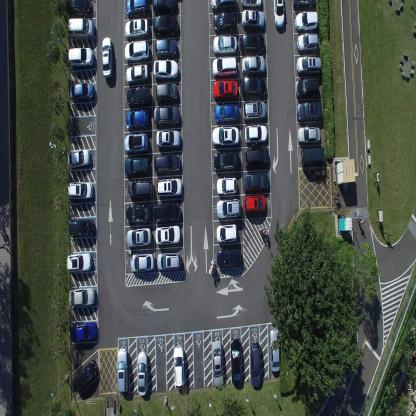car: (72, 358, 100, 394), (67, 44, 94, 70), (67, 16, 95, 41), (70, 320, 99, 344), (152, 58, 179, 83), (67, 216, 96, 239), (116, 347, 130, 393), (68, 285, 96, 308), (249, 340, 262, 388), (136, 349, 149, 397), (214, 150, 240, 174), (124, 39, 150, 63), (154, 153, 181, 176), (211, 126, 239, 148), (151, 14, 179, 36), (100, 35, 114, 78), (300, 145, 325, 169), (240, 78, 266, 101), (244, 146, 270, 169), (67, 252, 94, 274), (156, 178, 183, 200), (154, 201, 181, 223), (126, 226, 153, 248), (212, 339, 224, 388), (230, 336, 242, 385), (154, 82, 179, 105), (296, 54, 321, 77), (296, 102, 322, 124), (212, 81, 238, 103), (126, 202, 152, 224), (69, 81, 95, 103), (212, 56, 238, 78), (239, 32, 265, 54), (213, 9, 235, 35), (153, 105, 180, 126), (130, 250, 154, 273), (242, 193, 266, 216), (67, 146, 91, 169), (242, 7, 265, 31), (156, 130, 181, 152), (125, 156, 150, 178), (68, 180, 93, 202), (126, 86, 151, 108), (241, 54, 266, 76), (156, 250, 182, 271), (215, 198, 241, 219), (243, 171, 269, 192), (155, 224, 181, 245), (124, 133, 150, 154), (173, 345, 185, 390), (270, 326, 281, 374), (217, 246, 241, 268), (294, 78, 318, 100), (215, 104, 239, 126), (125, 63, 149, 85), (124, 16, 148, 38), (213, 34, 237, 56), (244, 124, 267, 146), (242, 102, 266, 123), (294, 11, 318, 32), (128, 180, 153, 200), (215, 222, 237, 243), (126, 108, 148, 129), (155, 38, 178, 58), (296, 32, 318, 52), (297, 125, 320, 144), (64, 0, 91, 16), (216, 176, 238, 195), (273, 0, 285, 33), (125, 0, 149, 16), (152, 0, 178, 14), (292, 0, 317, 11), (210, 0, 237, 8), (240, 0, 262, 8)
